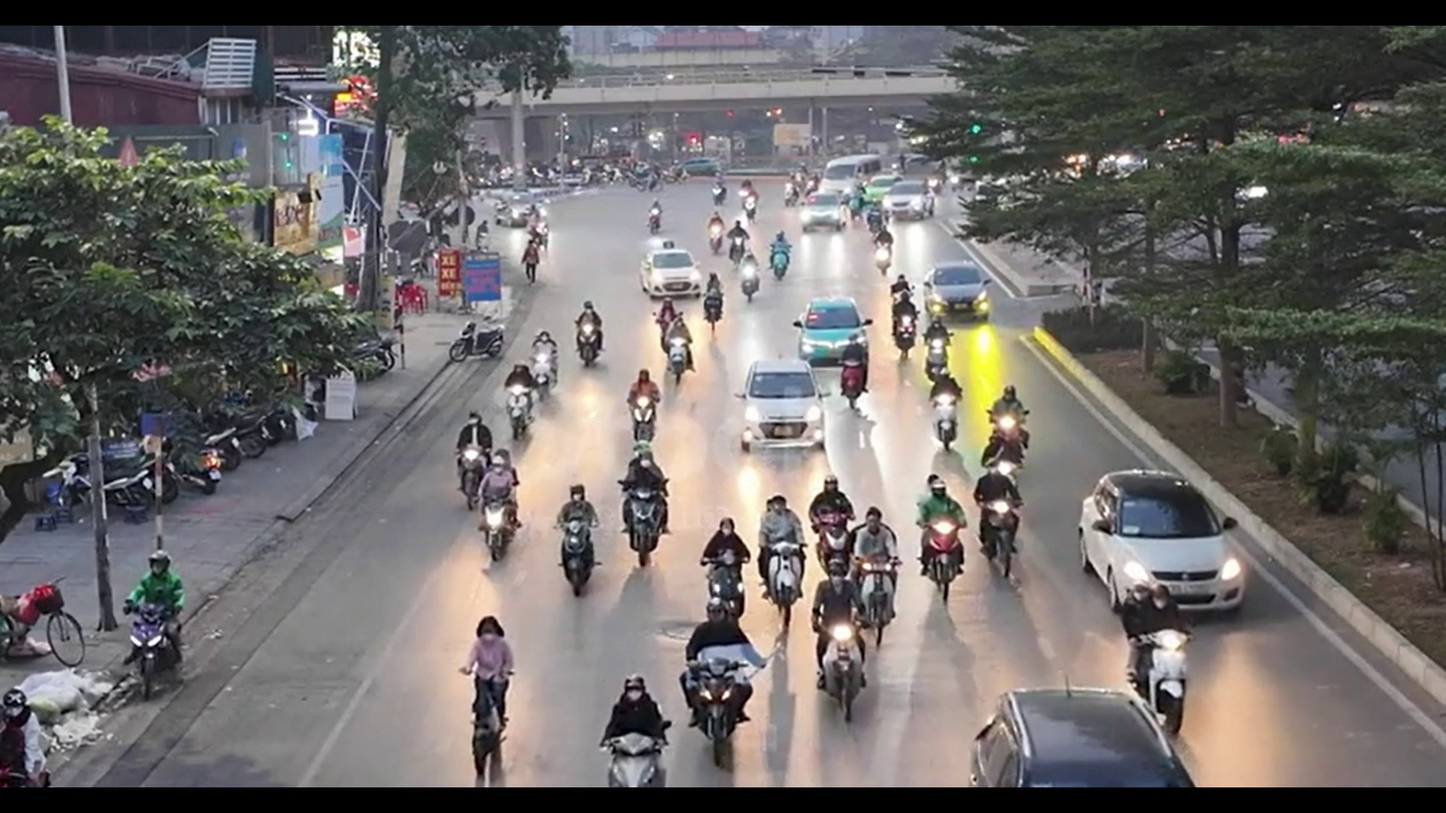car: (1080, 469, 1248, 613), (968, 686, 1193, 786), (740, 364, 825, 452), (796, 297, 869, 372), (924, 261, 991, 319), (641, 247, 706, 299)
motorcycle: (1, 581, 87, 667), (622, 490, 668, 569), (559, 522, 599, 598)
